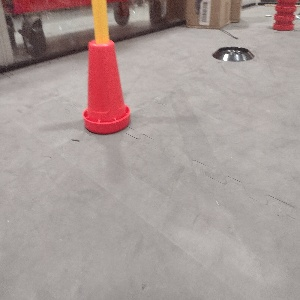Red_1: (81, 37, 131, 134)
